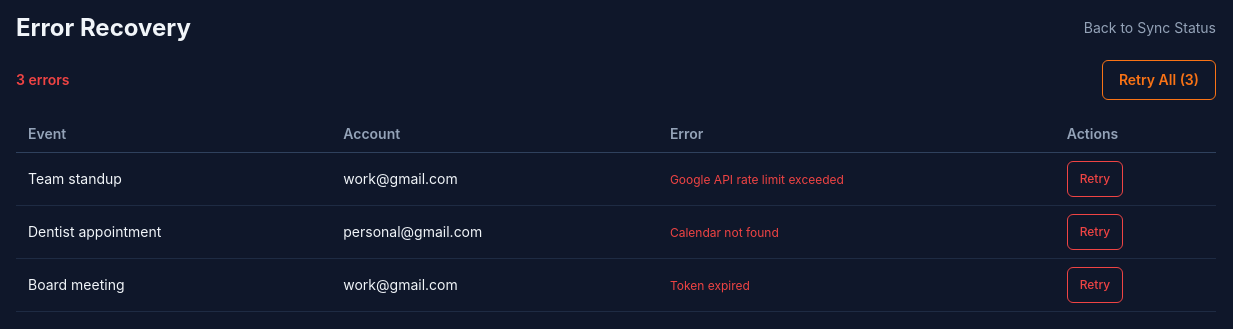
Test: ErrorRecovery Page › integration: batch retry all › keeps failed mirrors in list on partial batch failure
Click the button with test id "batch-retry-btn": (1159, 80) x1=1102 y1=60 x2=1216 y2=100
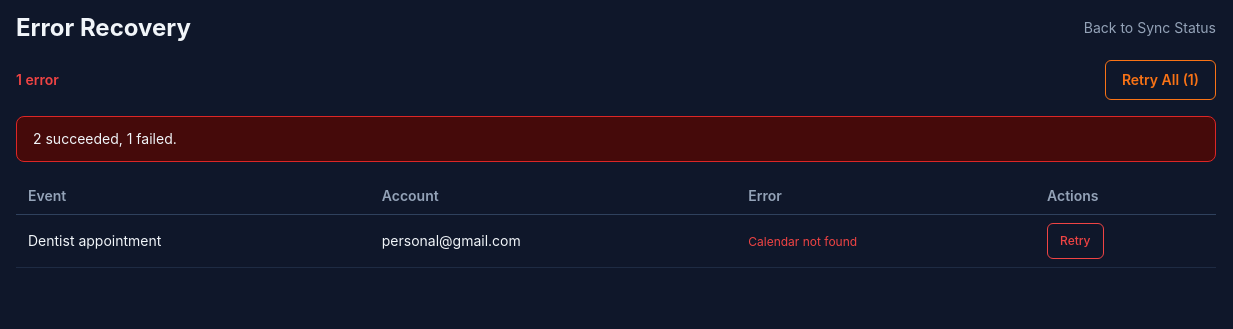
expect the row with test id "error-row-m2" is shown: met, box x1=16 y1=214 x2=1216 y2=268
expect the row with test id "error-row-m1" is gone: met
expect the row with test id "error-row-m3" is gone: met
